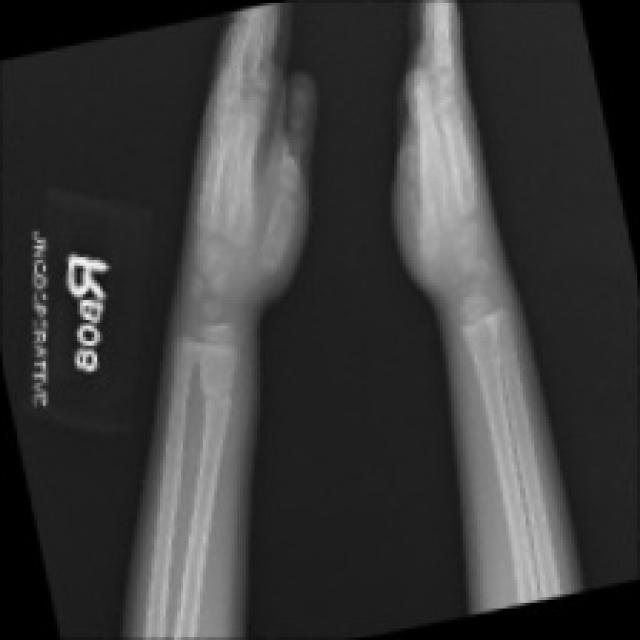fracture: (188, 359, 250, 442)
